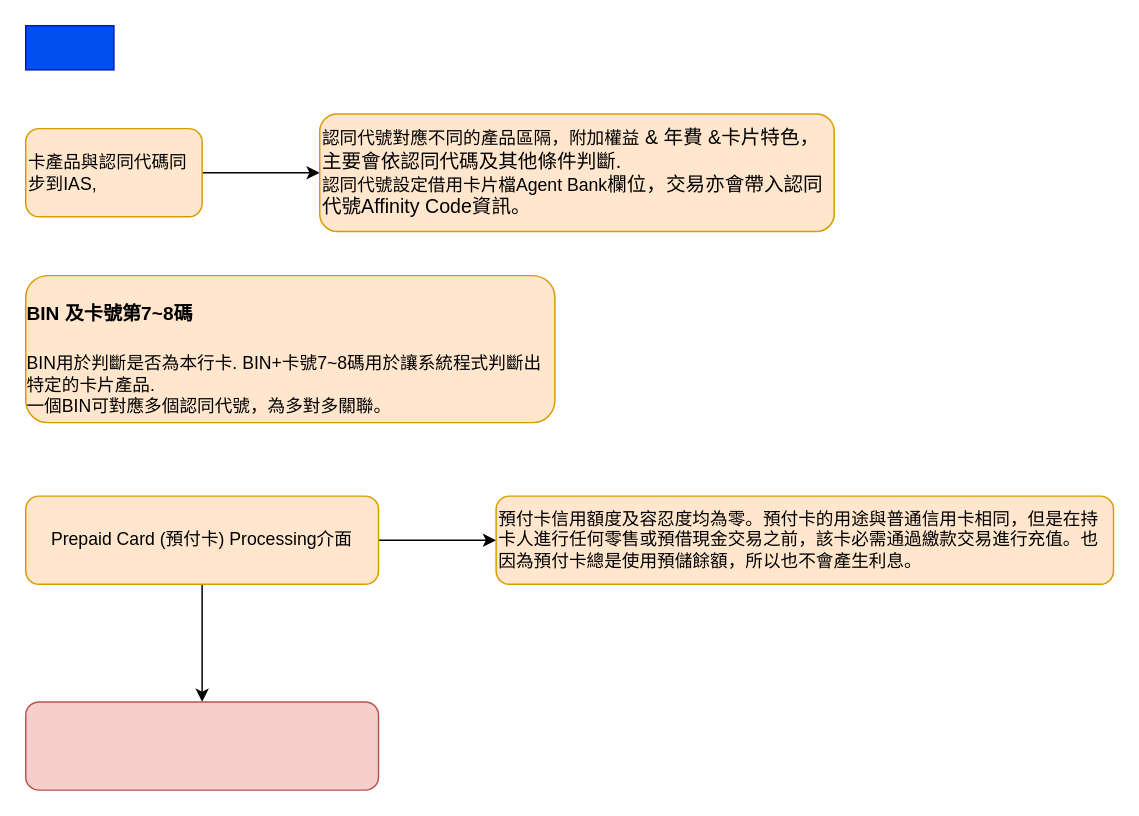
Some shapes in this 1139 by 816 pixel diagram are drawn without their labels. The box of each missing label's shape, as (x1, y1, x2, y2) in pixels:
P4-001: (24, 24, 114, 70)
WLPS IAS/IBO 將需新增對應的線上電文和批次結算處理介面: (24, 700, 379, 790)
